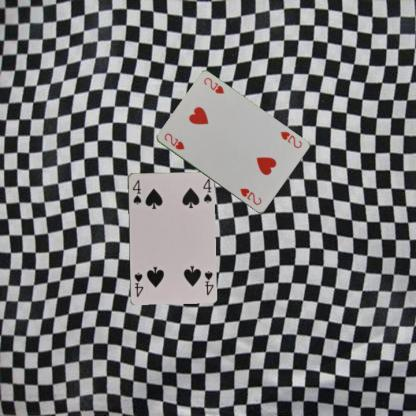2h: (277, 128, 303, 150), (161, 130, 186, 151)
4s: (130, 177, 142, 205), (202, 268, 214, 296)
